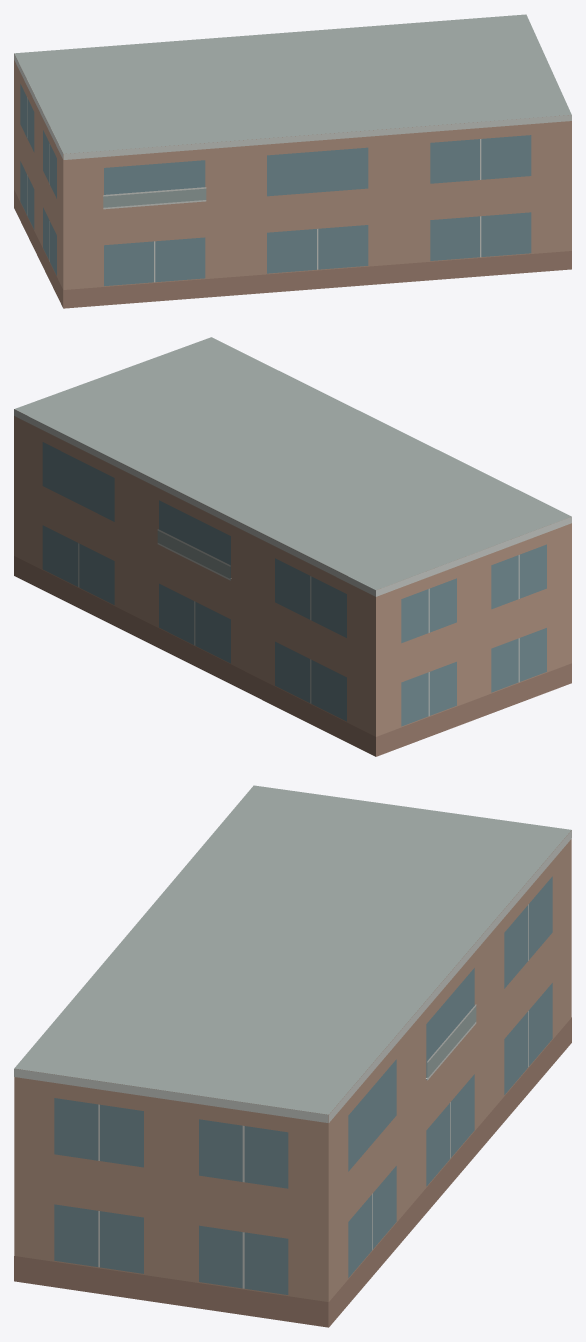
The model's file is survey-upis-32884209.glb.
The picture shows the model from 3 angles, top to bottom: view 1: azimuth 30°, elevation 25°; view 2: azimuth 150°, elevation 25°; view 3: azimuth 270°, elevation 25°; orthographic projection. The views are drawn at different scales.
Visible parts, largest first — view 1: survey-upis-32884209.tmp; view 2: survey-upis-32884209.tmp; view 3: survey-upis-32884209.tmp.
Boxes of the visible parts, <box> form: survey-upis-32884209.tmp: <box>14,14,571,308</box>; survey-upis-32884209.tmp: <box>14,337,571,756</box>; survey-upis-32884209.tmp: <box>14,785,571,1327</box>.
Size of the model in its own units: 20.26 by 6.1 by 14.5.
